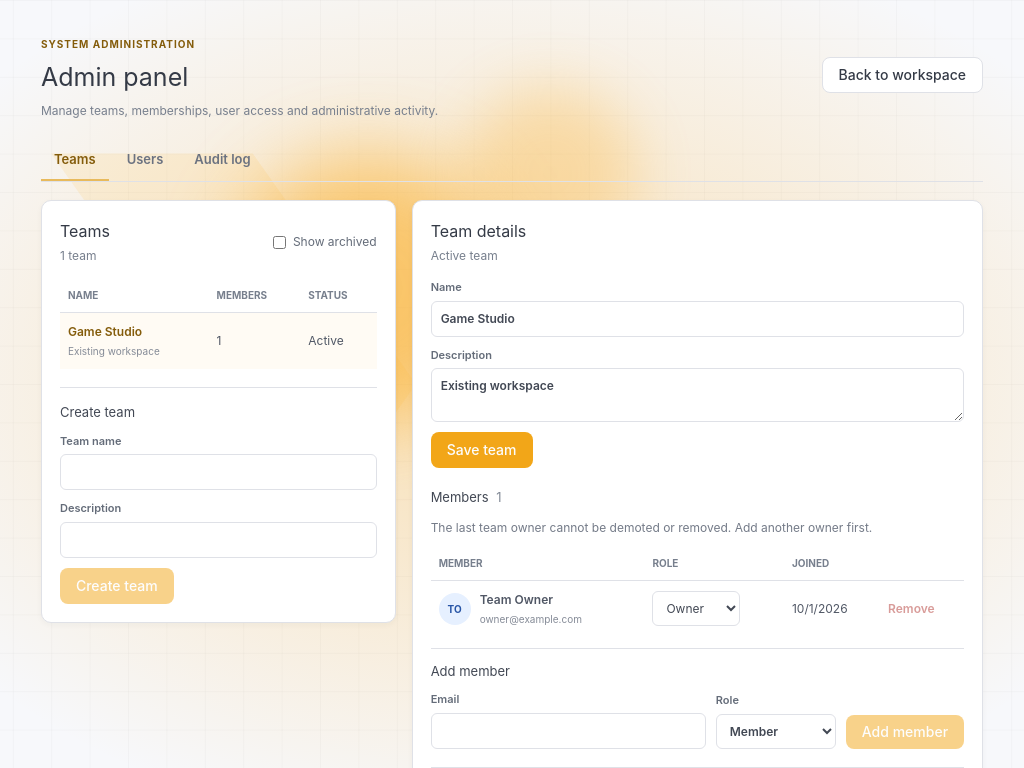
AdminPanel › loads team administration and displays users and audit entries in their sections
Expected: the button "Game Studio" is shown, [68,323,142,341]
Expected: the text "The last team owner cannot be demoted or removed. Add another owner first." is shown, [431,520,872,534]
Click the button "Users" at (145, 160), box [114,140,176,181]
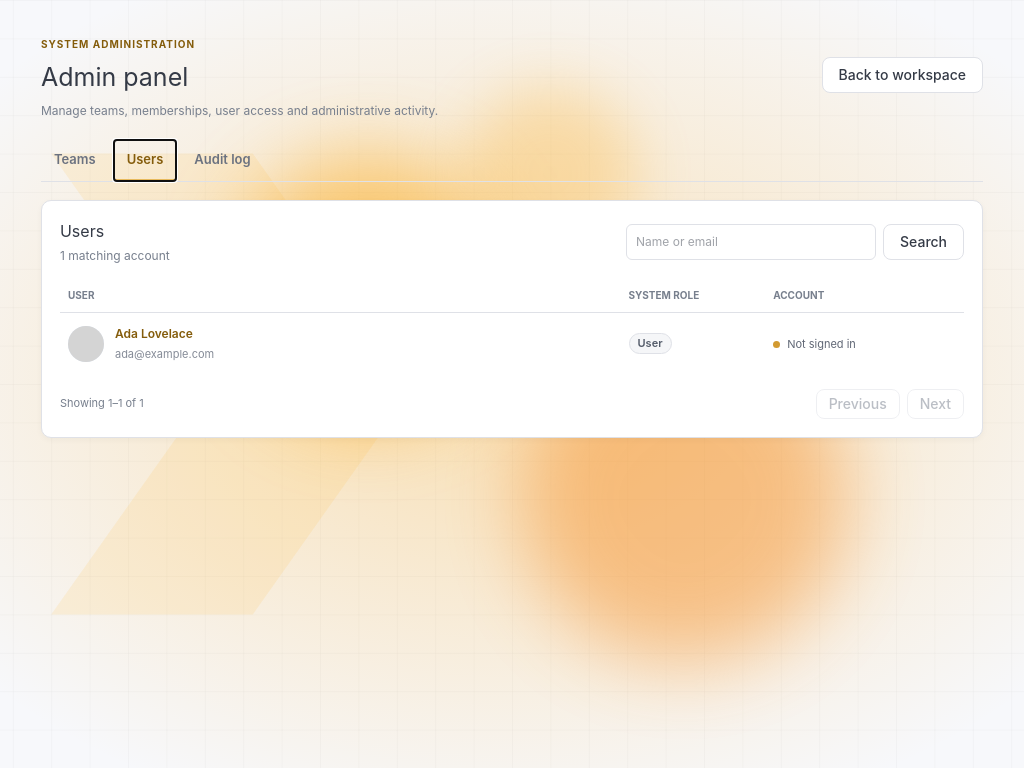
Expected: the text "ada@example.com" is shown, [115,346,214,362]
Expected: the text "User" is shown, [628,333,672,354]
Expected: the text "Not signed in" is shown, [773,336,856,352]
Click the button with aria-label "Manage Ada Lovelace" at (154, 334), box [115,325,193,343]
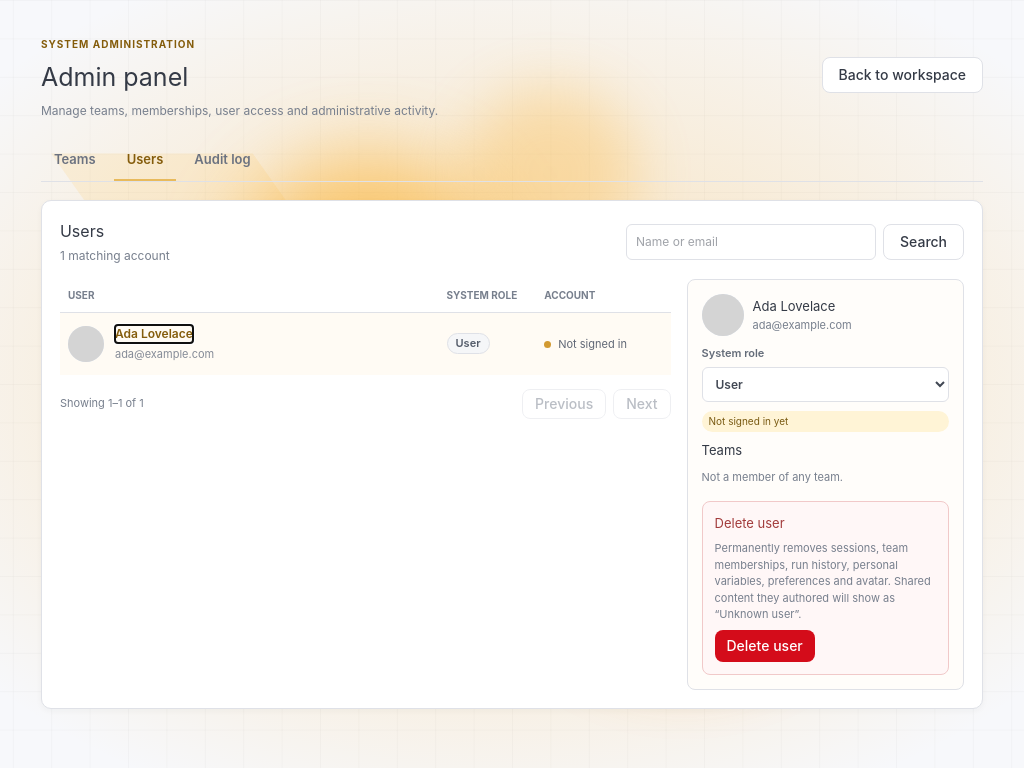
Expected: the text "Not a member of any team." is shown, [702,470,843,484]
Select "Admin" in the dropdown labelled "System role" at (825, 384), box [702,366,949,402]
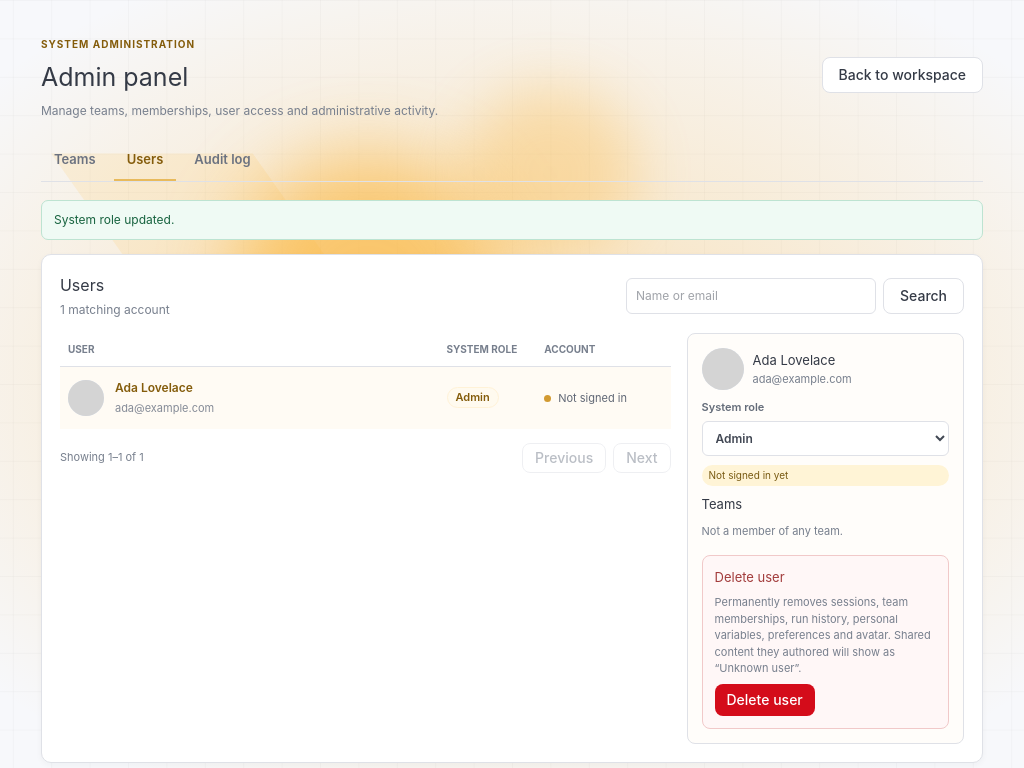
Click the button "Audit log" at (223, 160), box [181,140,264,181]
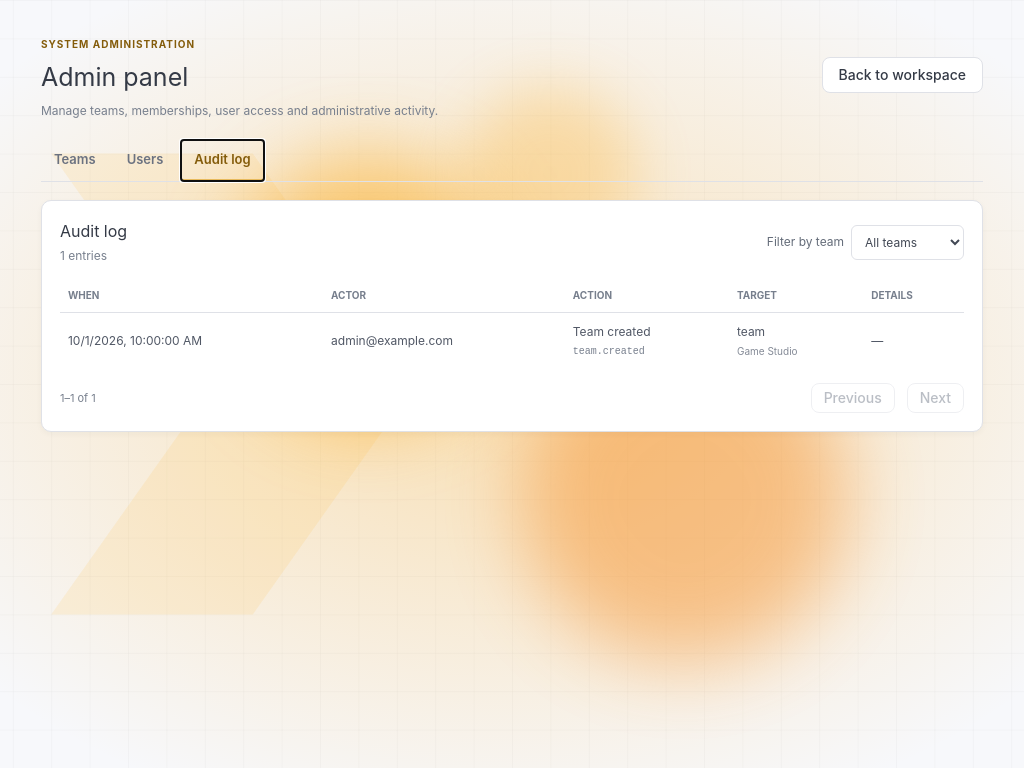
Expected: the text "team.created" is shown, [573,344,645,359]
Expected: the text "Team created" is shown, [573,324,650,339]
